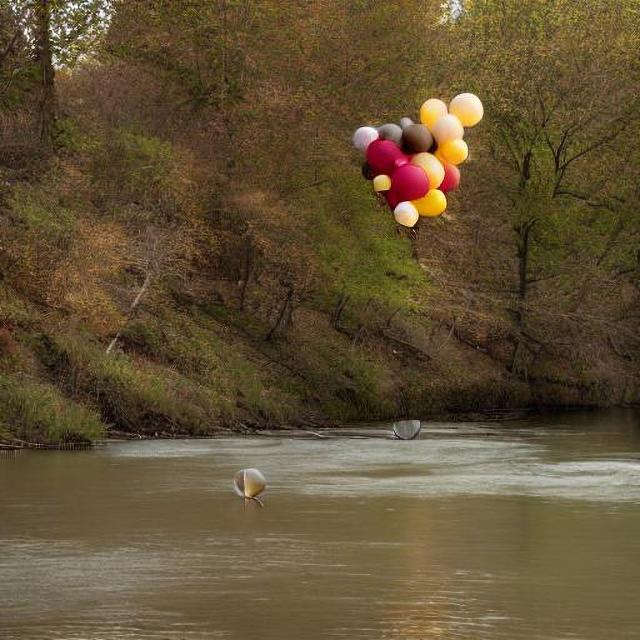balloon: (354, 91, 478, 227)
floating object: (232, 466, 268, 499), (389, 418, 421, 442)
